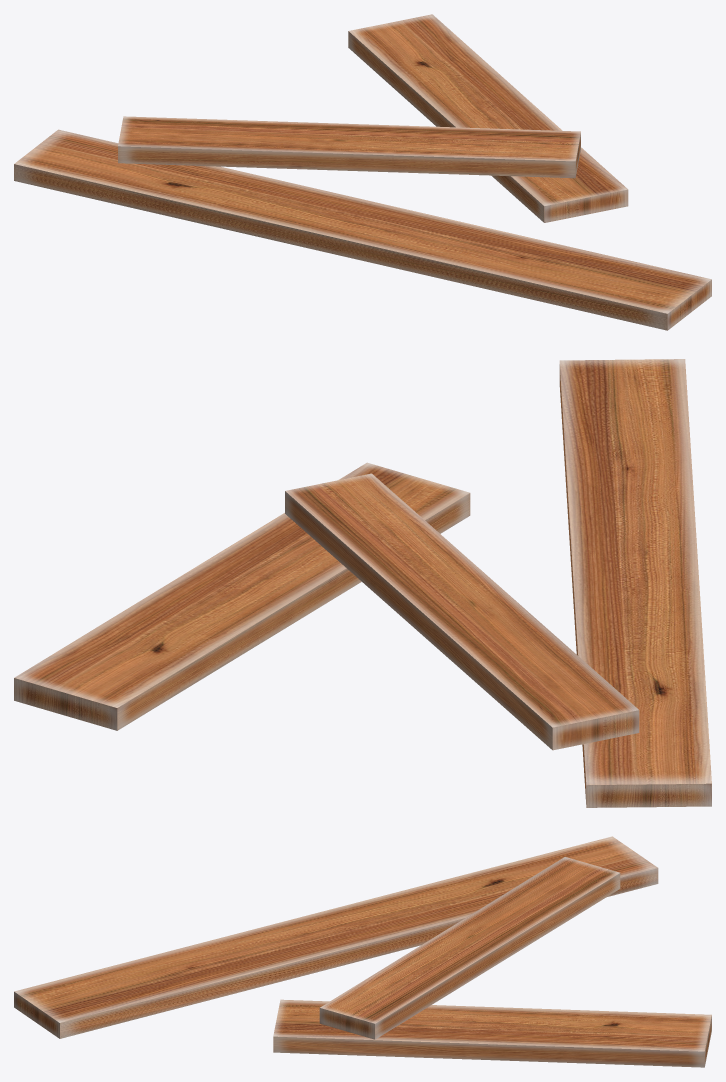
File: board 1.fbx
3 views of the same model, one above another, from view 1: azimuth 30°, elevation 25°; view 2: azimuth 150°, elevation 25°; view 3: azimuth 270°, elevation 25° (orthographic). The views are drawn at different scales.
Visible parts, largest first — view 1: pCube1, pCube3, pCube2; view 2: pCube1, pCube2, pCube3; view 3: pCube1, pCube2, pCube3.
Part boxes in pixels (box(x1,y1,x2,y2)): pCube1: box(14, 129, 711, 330); pCube3: box(118, 116, 580, 178); pCube2: box(348, 14, 628, 222); pCube1: box(559, 359, 711, 807); pCube2: box(14, 462, 470, 730); pCube3: box(285, 473, 639, 750); pCube1: box(14, 836, 658, 1038); pCube2: box(273, 999, 711, 1067); pCube3: box(319, 857, 620, 1039).
Size of the model in its own units: 5.81 by 0.4 by 7.95.
